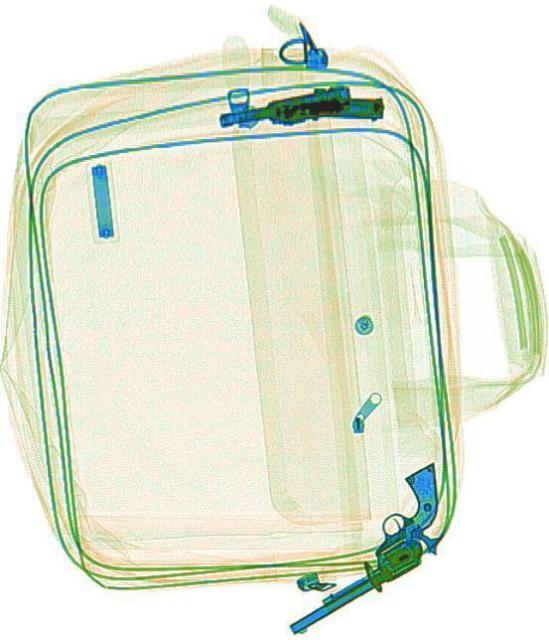Gun: (257, 458, 470, 638), (215, 81, 382, 129)
